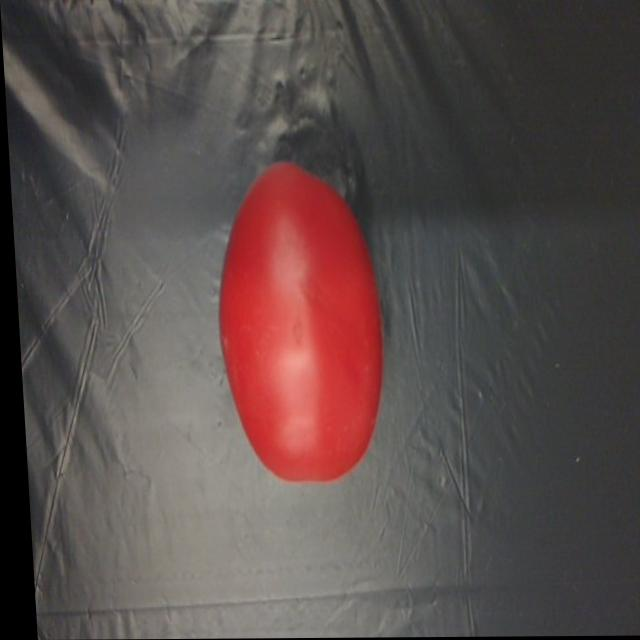kirmizi: (203, 154, 397, 487)
